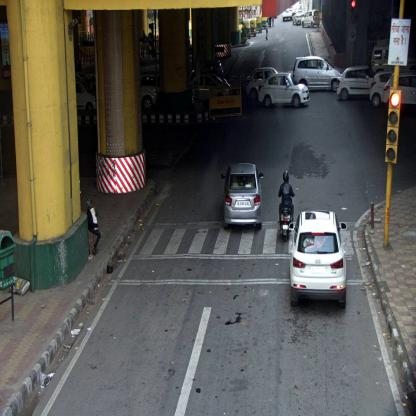car: (288, 211, 348, 309), (221, 162, 263, 232), (294, 54, 344, 93), (258, 74, 311, 110), (369, 71, 414, 110), (337, 66, 373, 103), (245, 68, 278, 99), (301, 10, 321, 29), (292, 11, 303, 25)
motorcycle: (280, 171, 295, 243)
